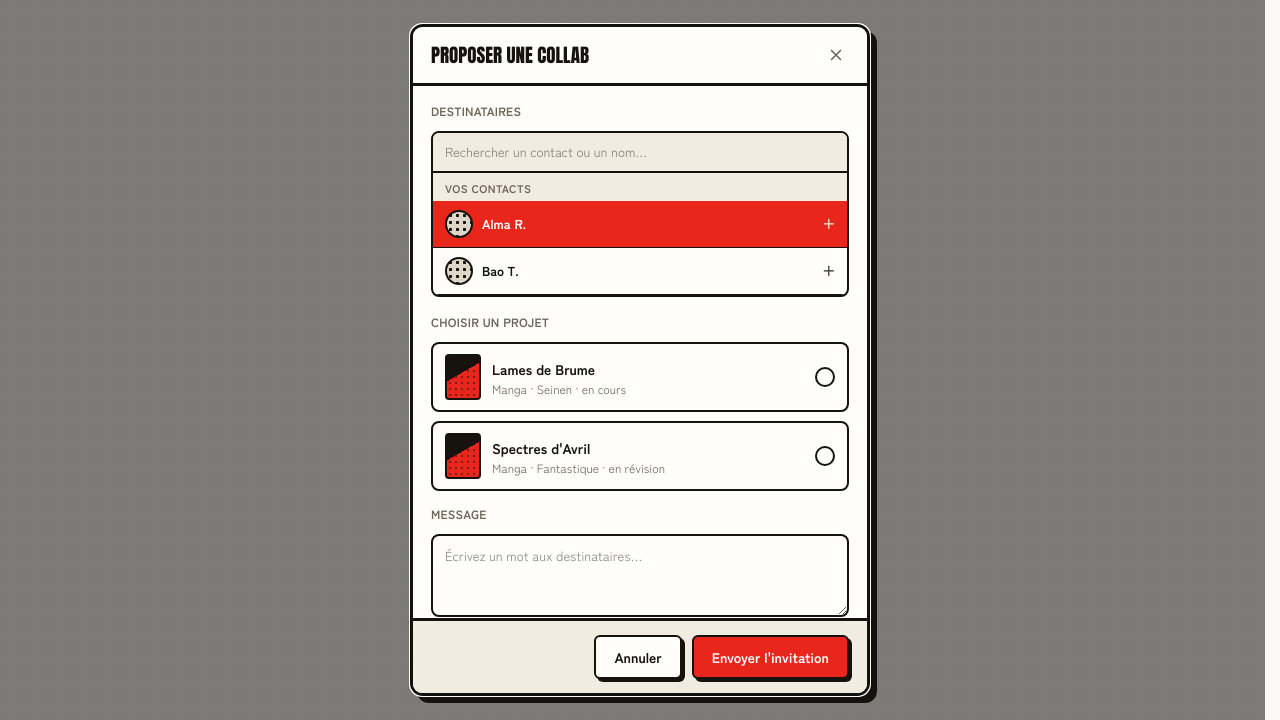
Test case: InviteModal — picker mode (no recipient) › sends the selected recipients and renders per-recipient results
// Pick both people from the search listbox.
What coordinates should you click on to do the following:
click the option "Alma R. ＋"
I would click on:
 (504, 224)
Its box is x1=433 y1=201 x2=847 y2=248.
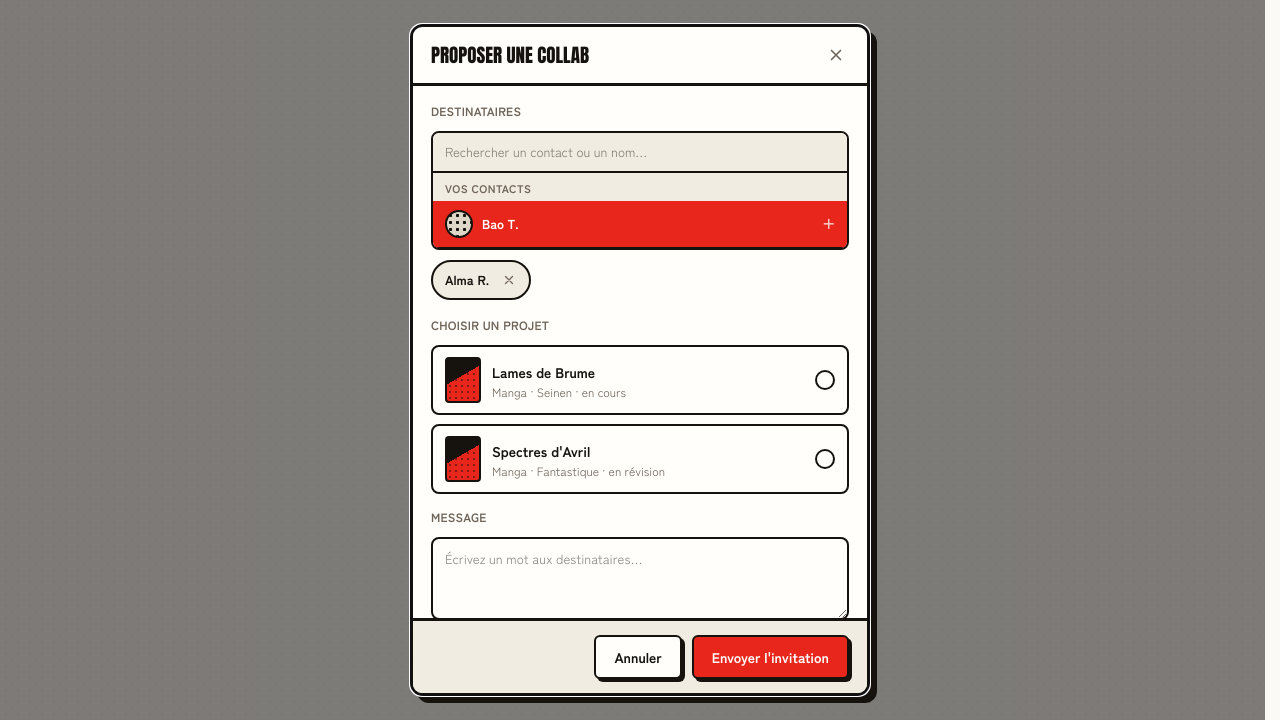
What coordinates should you click on to do the following:
click the option "Bao T. ＋"
I would click on:
 (500, 224)
Its box is x1=433 y1=201 x2=847 y2=248.
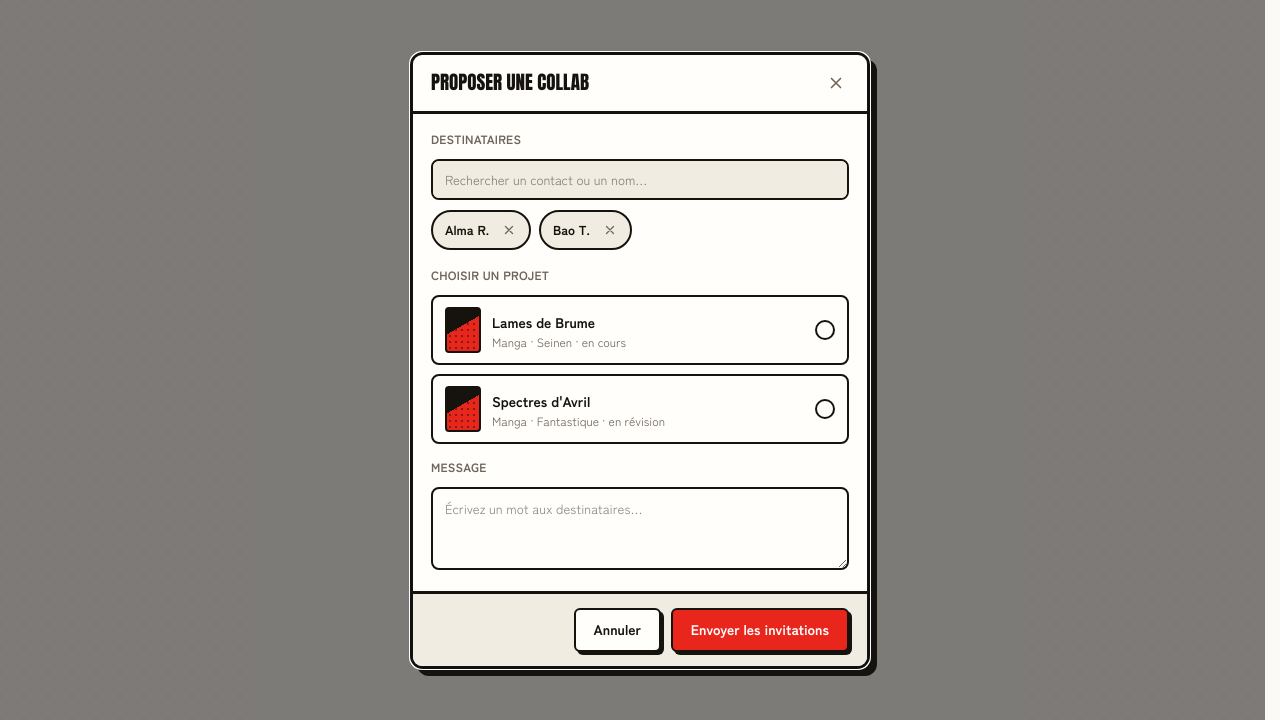
// Plural send label appears with 2+ selected.
What coordinates should you click on to do the following:
click the button "Envoyer les invitations"
I would click on:
 (760, 630)
Its box is x1=671 y1=608 x2=849 y2=652.
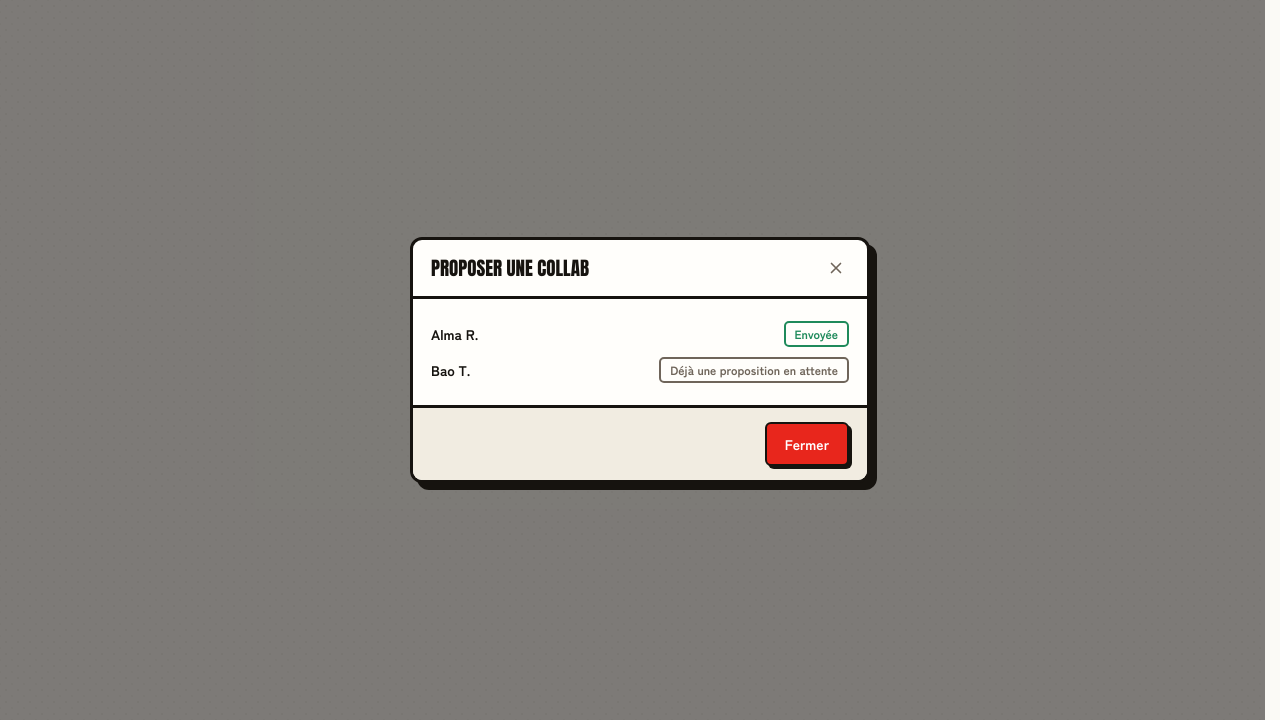
Expected: the text "Alma R." is shown, x1=431 y1=324 x2=478 y2=344
Expected: the text "Envoyée" is shown, x1=784 y1=321 x2=849 y2=347
Expected: the text "Bao T." is shown, x1=431 y1=360 x2=470 y2=380
